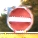No entry: (6, 6, 32, 33)
